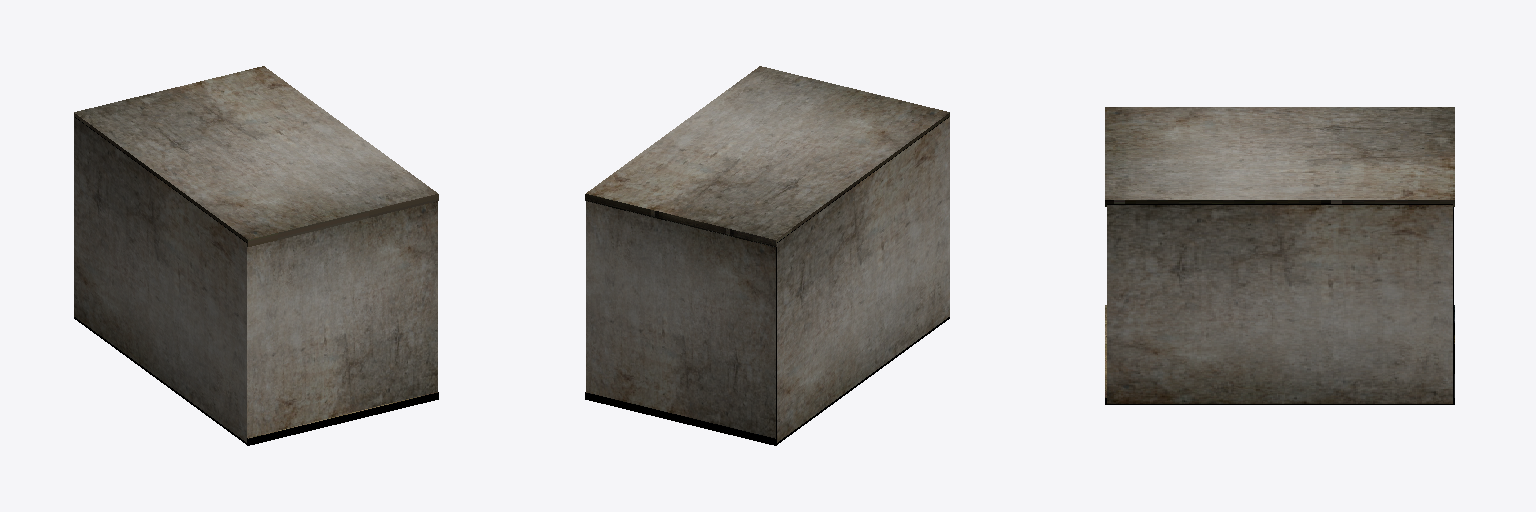
The picture shows the model from 3 angles: view 1: azimuth 30°, elevation 25°; view 2: azimuth 150°, elevation 25°; view 3: azimuth 270°, elevation 25°; orthographic projection.
Parts seen in each view (by area): view 1: pCube7; view 2: pCube7; view 3: pCube7.
Part boxes in pixels (left/top/right/bottom): pCube7: left=74, top=66, right=438, bottom=445; pCube7: left=585, top=66, right=949, bottom=445; pCube7: left=1105, top=107, right=1454, bottom=404.
Bounding box in the file's own units: 4.77 × 4.9 × 7.53.
5 materials, 3 textured.